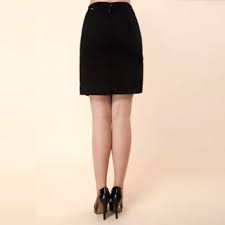F_tailored skirt: (76, 1, 150, 99)
